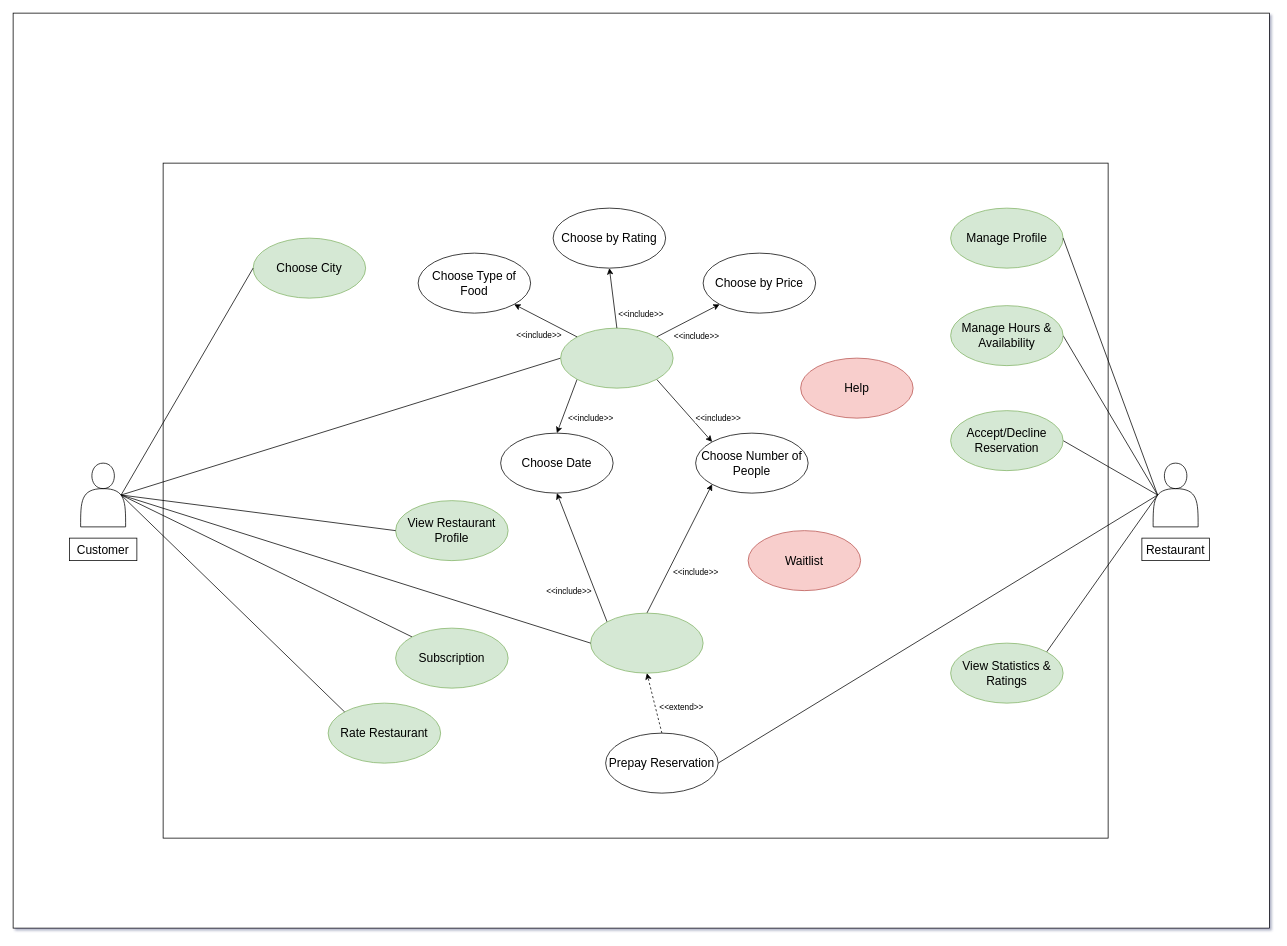
This 1287x946 diagram has some shape labels left out. Here are the shapes that lost their labels. From the top down, the box of each, then its label:
(560, 327, 673, 388): Search Restaurant
(590, 612, 703, 673): Create Reservation
